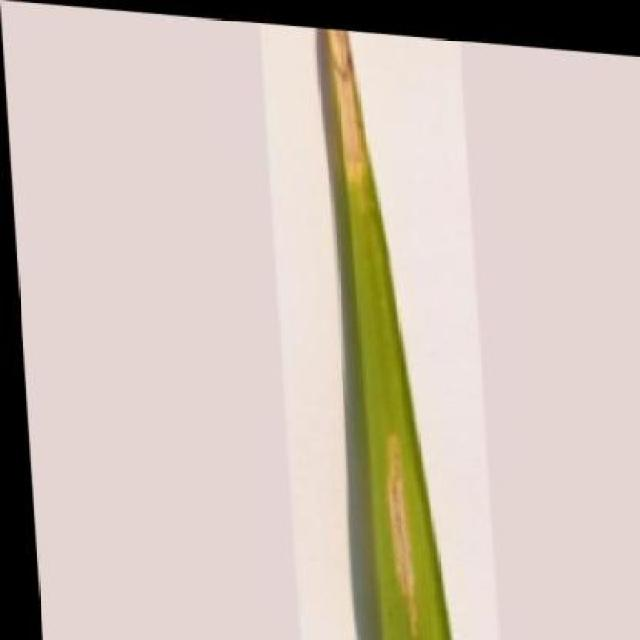Brown_Spot: (319, 21, 452, 640)
